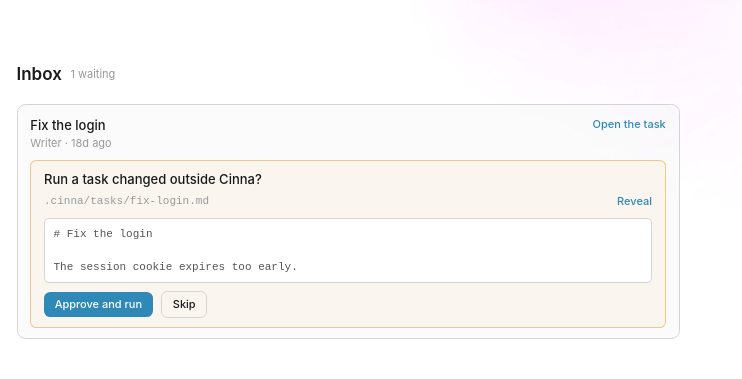
Test: the outside-content approval › keeps the card and its buttons when saving fails, with the reason beside them
Expected: the element "Run a task changed outside Cinna?" is shown, x1=16 y1=104 x2=680 y2=339
Click the button "Approve and run".
click(98, 305)  # box x1=44 y1=292 x2=153 y2=317
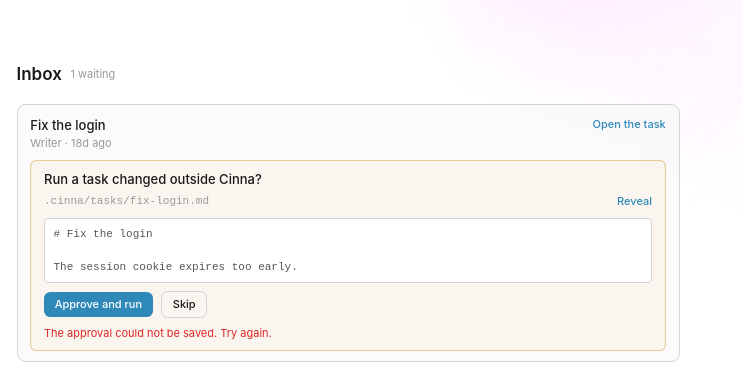
Result: the message reads "The approval could not be saved. Try again." at x1=44 y1=326 x2=272 y2=340
Click the button "Skip".
click(184, 305)  # box x1=161 y1=291 x2=207 y2=318
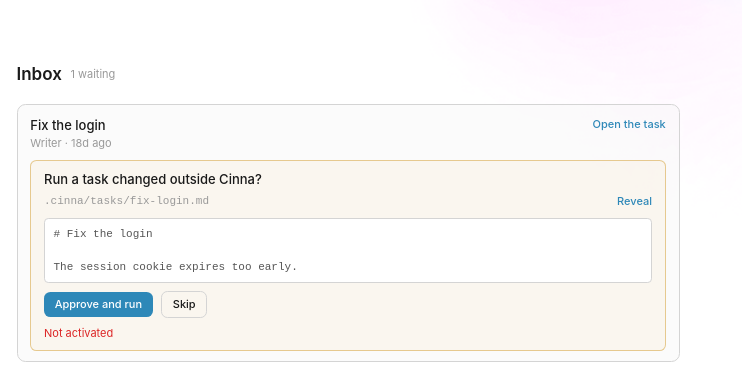
Result: the message reads "Not activated" at x1=44 y1=326 x2=113 y2=340
